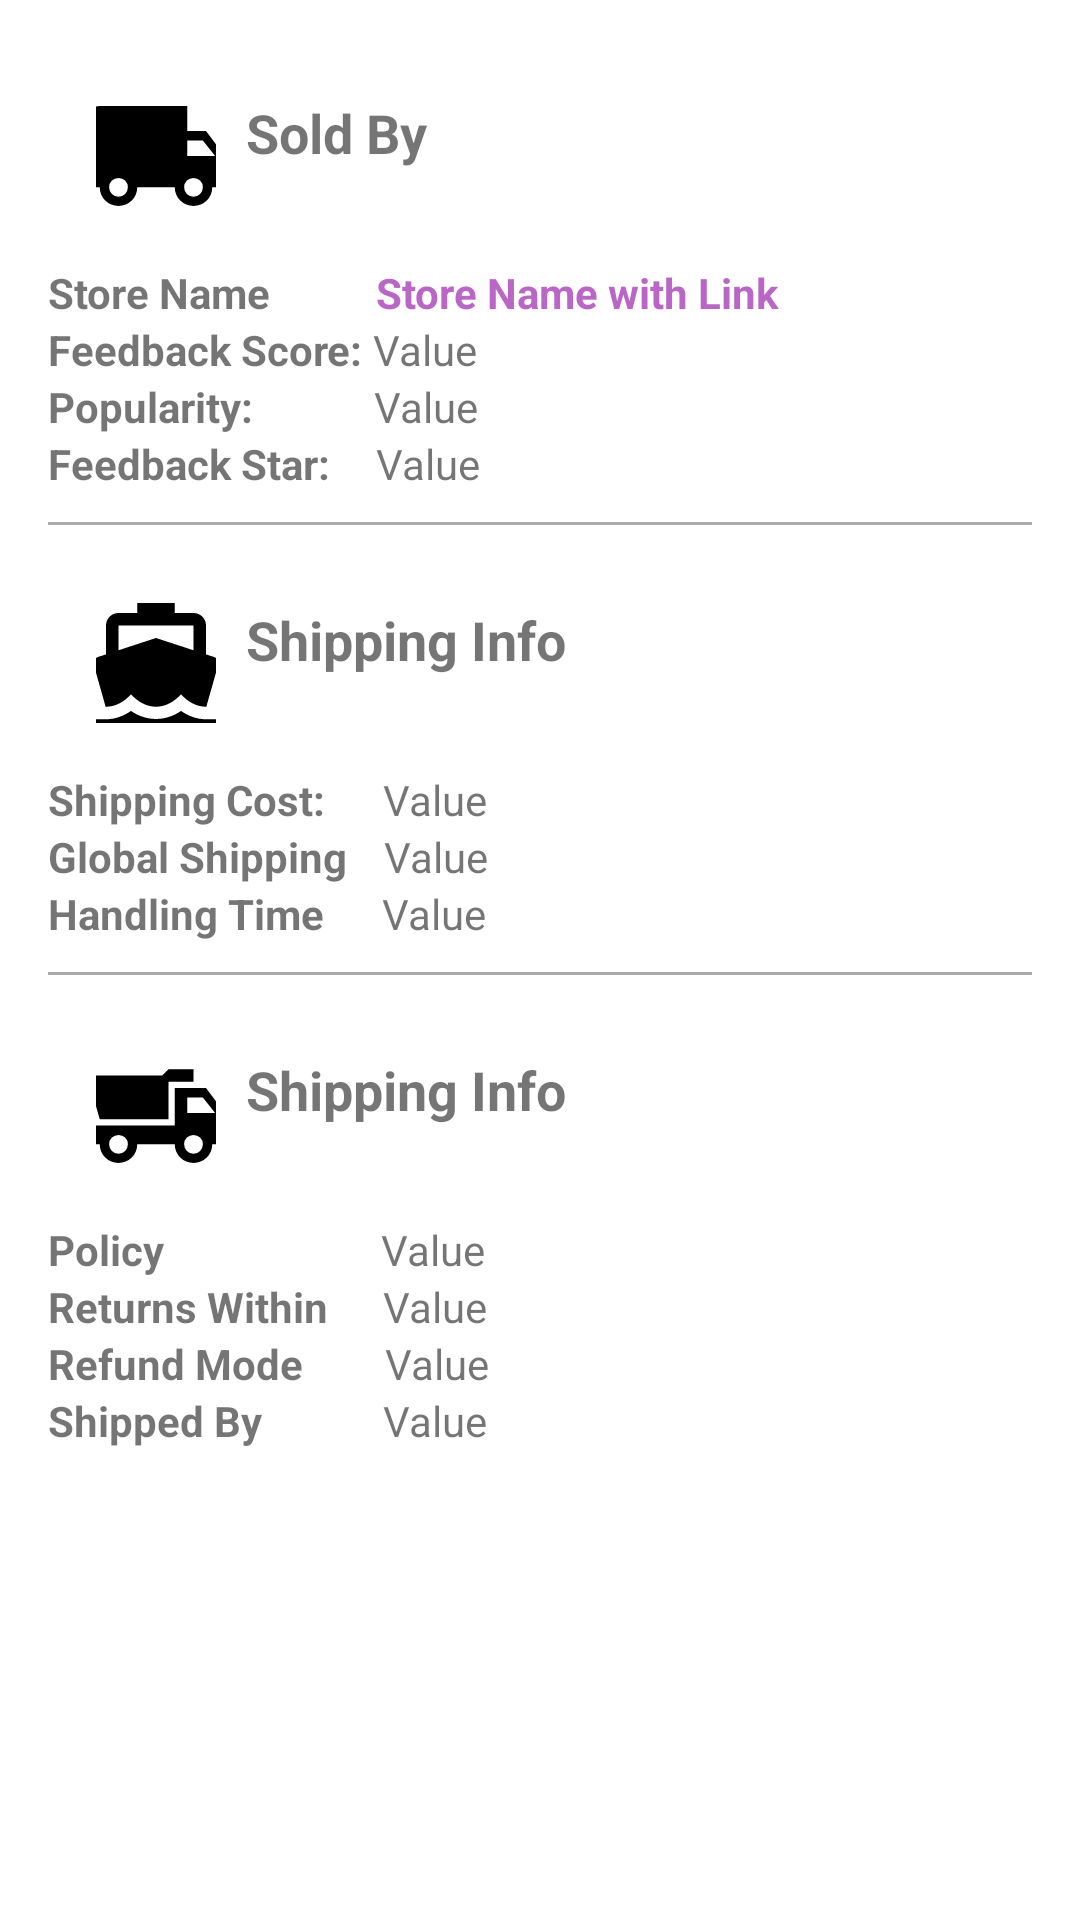

Screen size 1080x1920. Icon name, then its box in pixels as bbox=(x1, y1, x2, y2):
dumptruck: bbox=(96, 1069, 216, 1163)
ferry: bbox=(96, 603, 216, 723)
truck: bbox=(96, 106, 216, 206)
